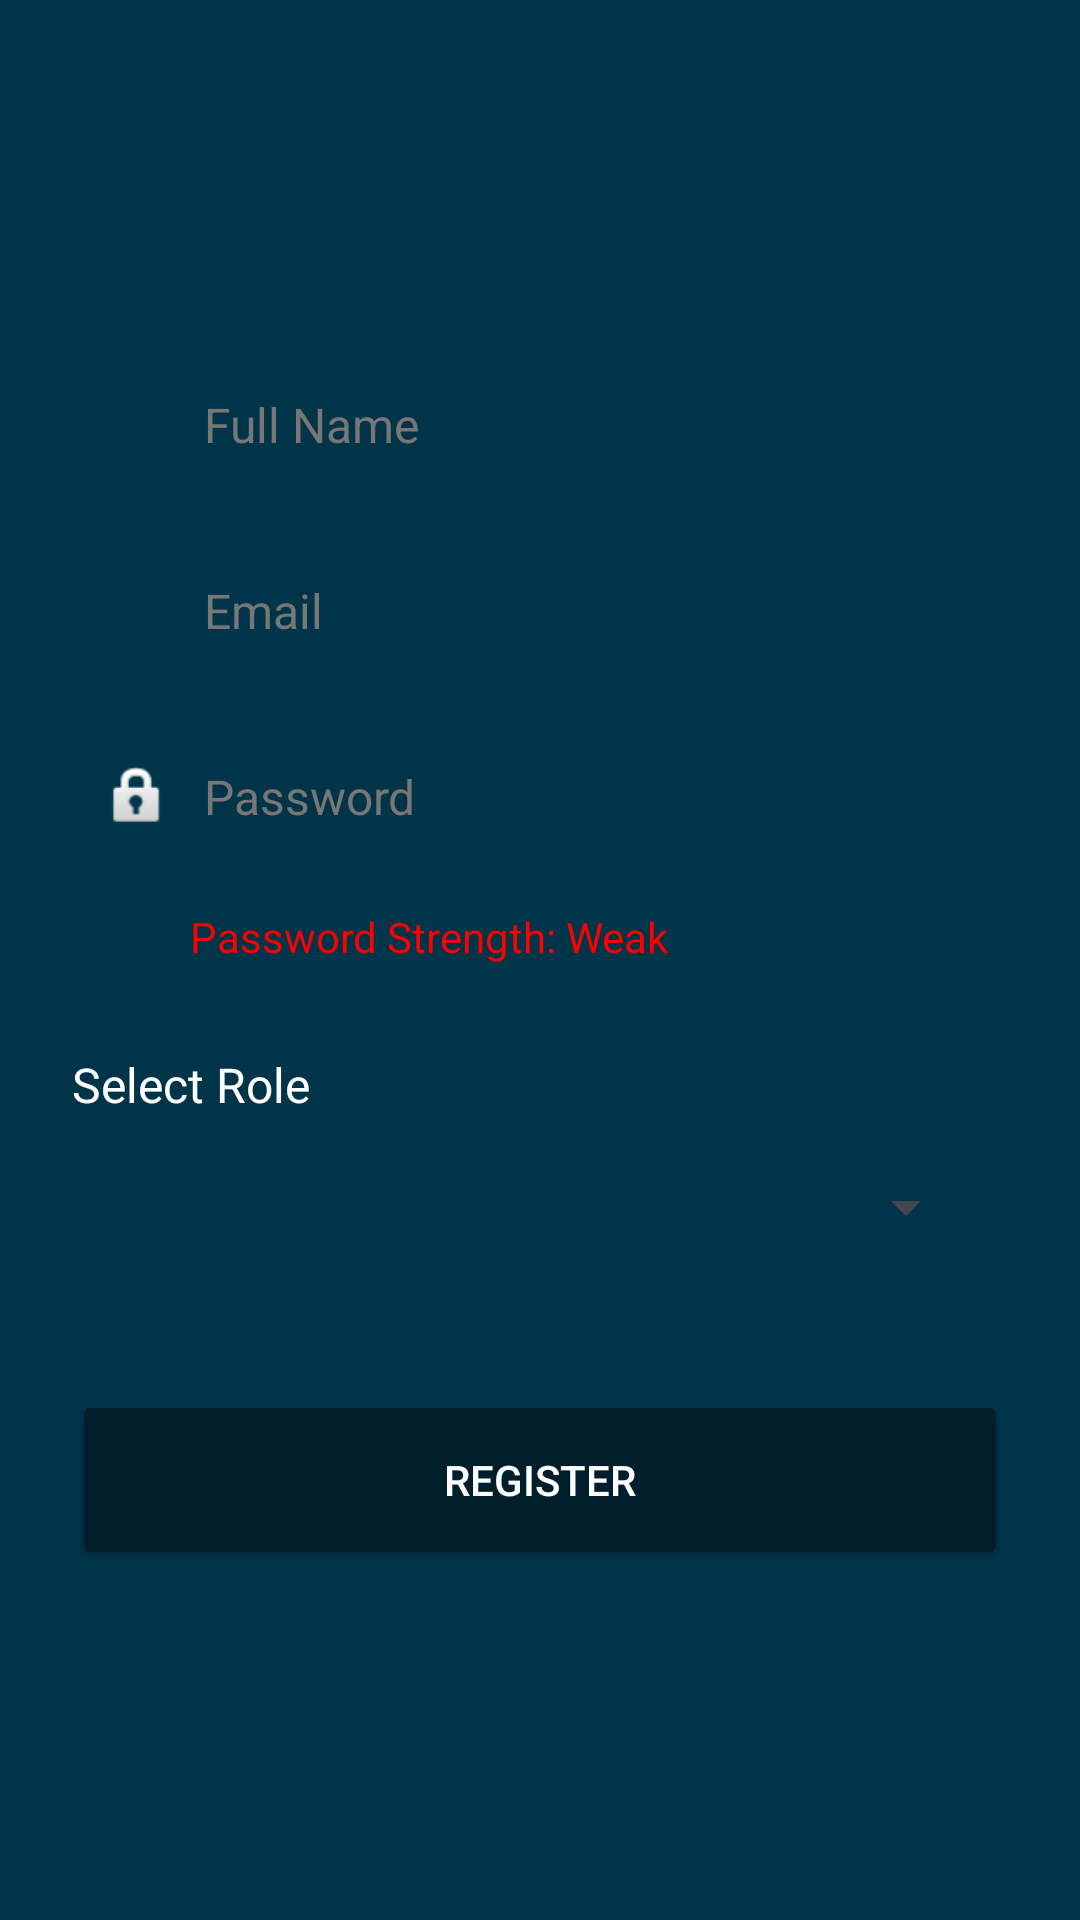

Screen size 1080w x 1920h. Icon name, then its box in pixels as (x1, y1, x2, y2):
lock idle: (113, 767, 160, 822)
